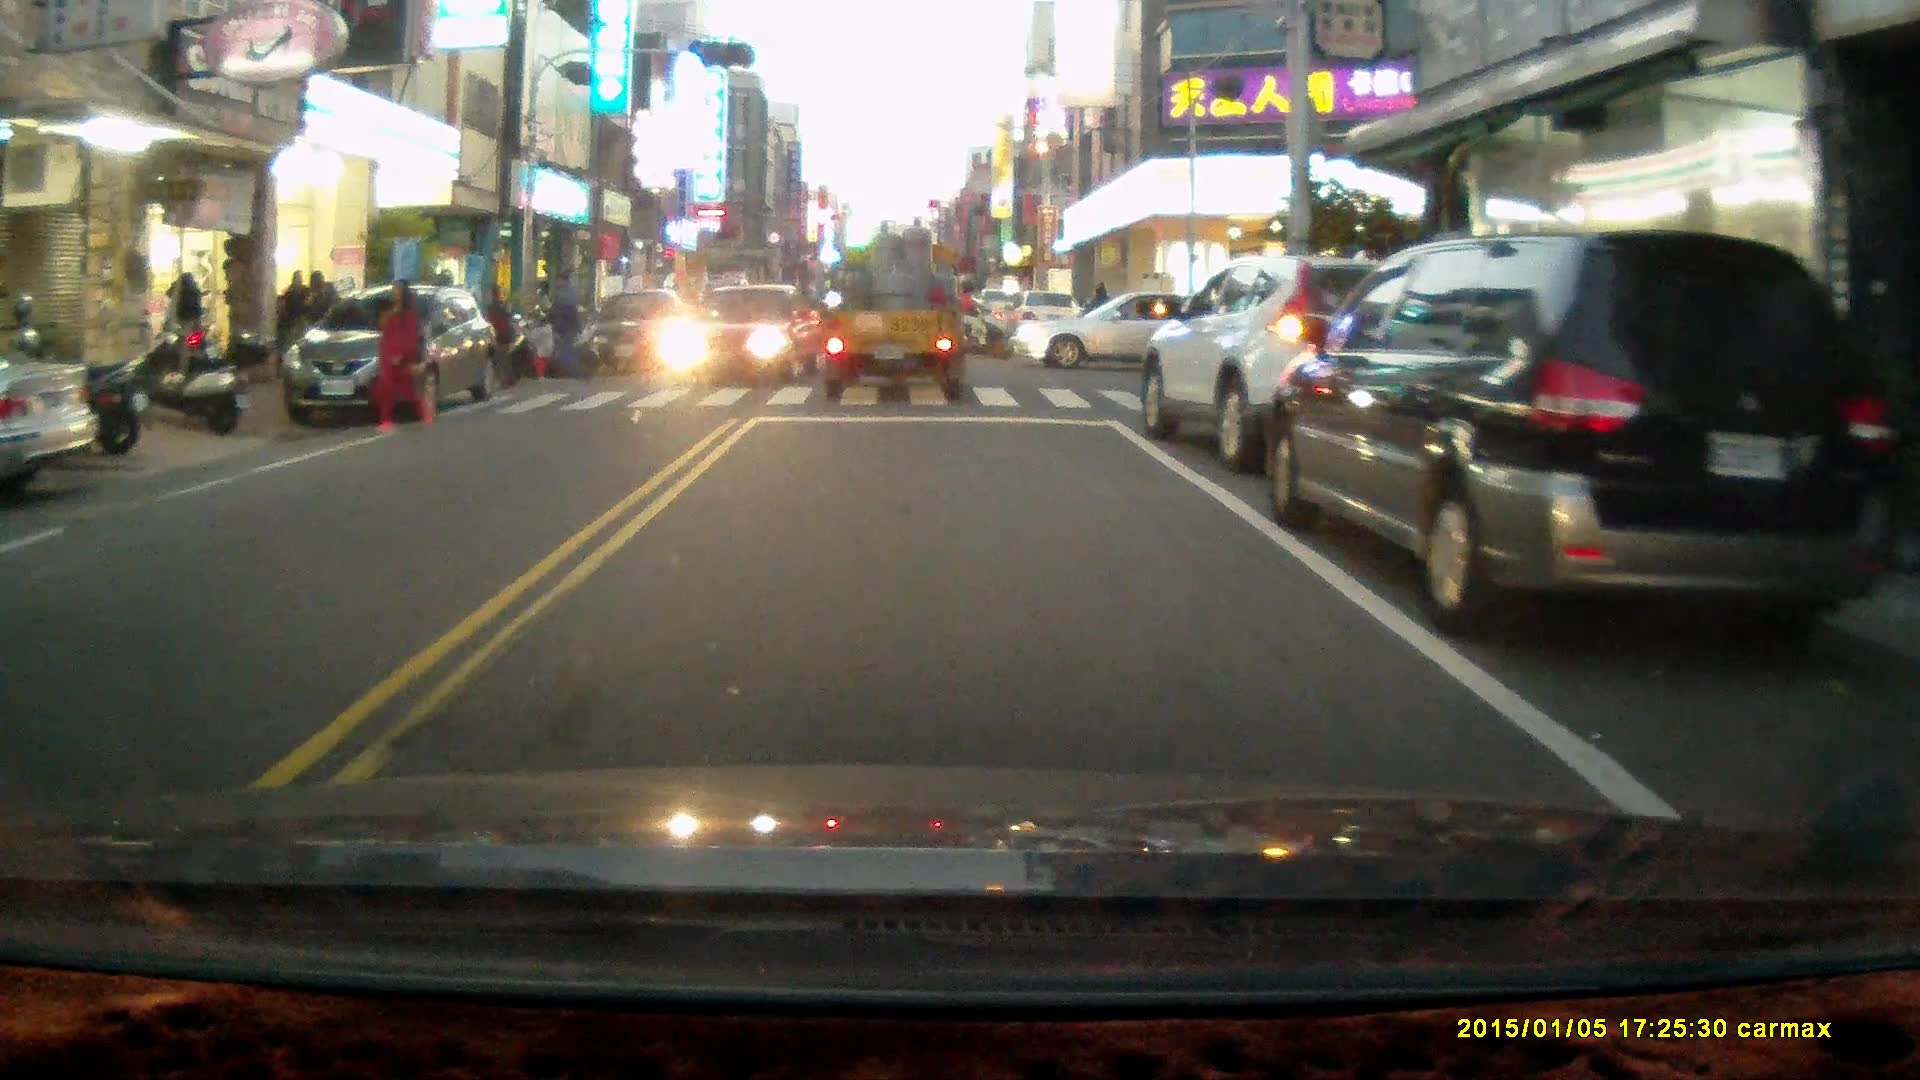pedestrian: (369, 273, 433, 432), (538, 264, 591, 385), (476, 278, 517, 388), (163, 267, 205, 370), (529, 310, 562, 380)
rider: (927, 268, 1013, 358)
vehicle: (1269, 231, 1866, 631), (1139, 251, 1472, 468), (281, 285, 492, 428), (818, 216, 976, 398), (1016, 286, 1243, 371), (661, 283, 817, 384), (1, 346, 94, 468), (575, 288, 699, 377)
